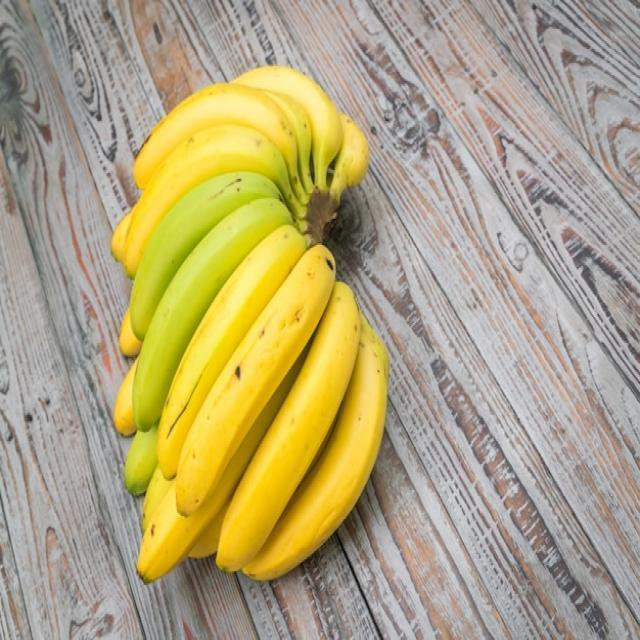Banana: (109, 57, 394, 589)
